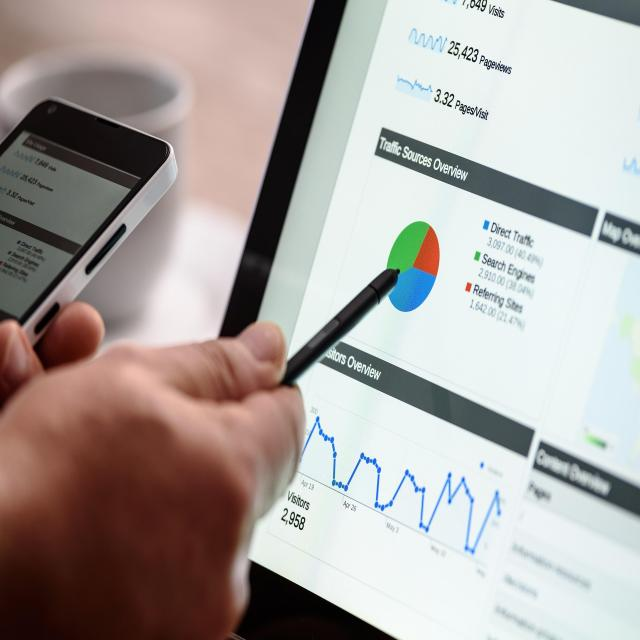Mobile: (1, 58, 184, 400)
